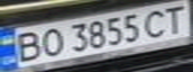3: (66, 20, 90, 53)
5: (121, 11, 148, 43), (103, 14, 127, 47)
8: (84, 17, 109, 51)
B: (6, 28, 45, 63)
C: (139, 7, 172, 38)
O: (36, 26, 66, 59)
T: (157, 2, 193, 35)
